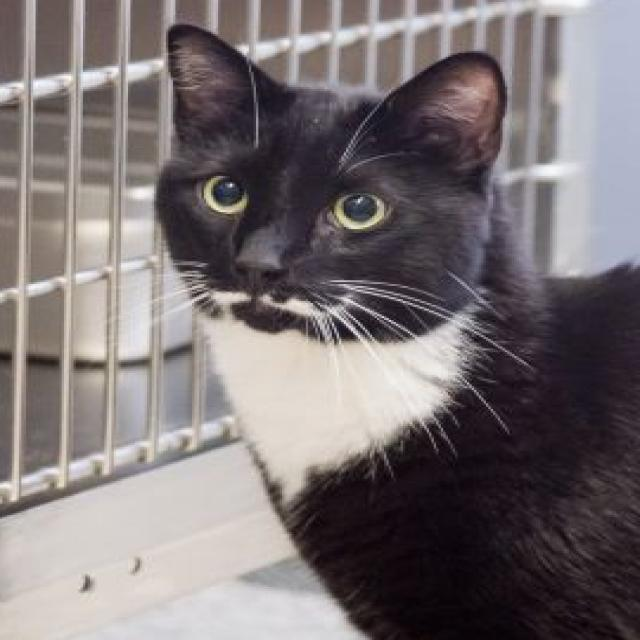Tuxedo: (149, 19, 640, 640)
